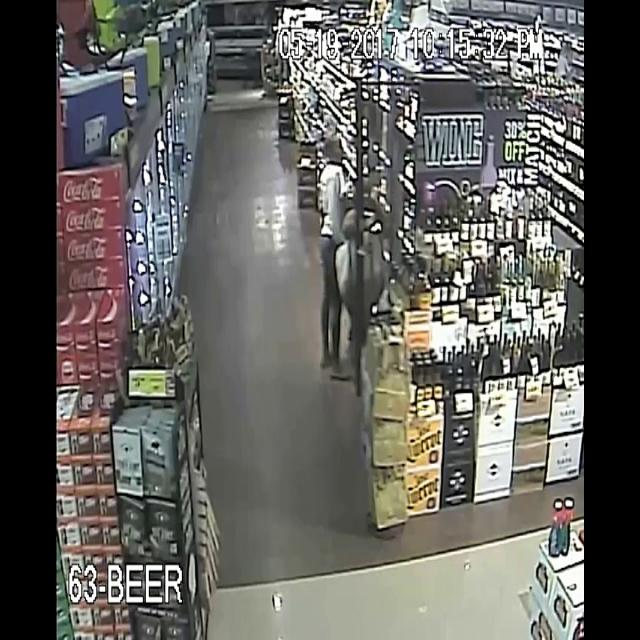normal: (312, 106, 365, 200)
shoplifting: (335, 129, 415, 401)
